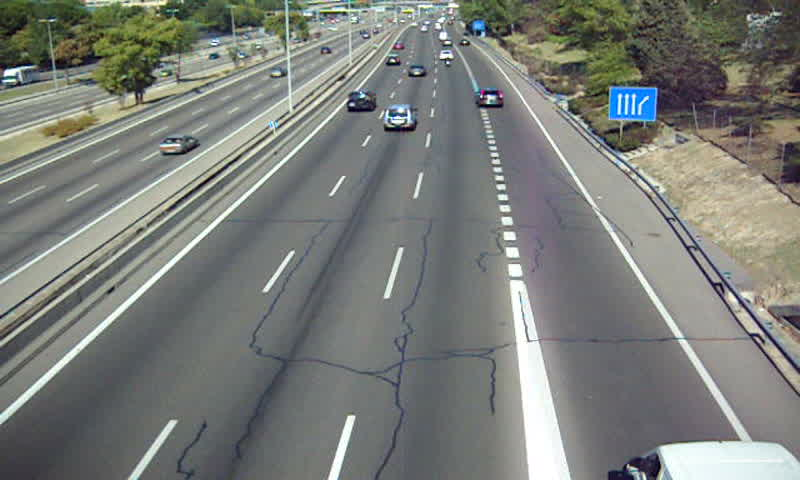car: (381, 104, 418, 131), (346, 90, 377, 111), (475, 87, 505, 107), (407, 64, 427, 80), (385, 52, 402, 68)
